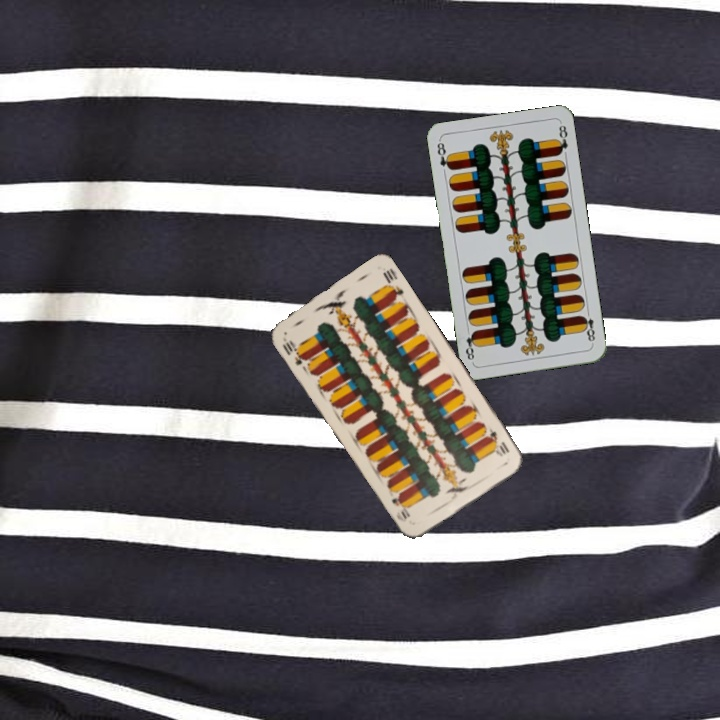E10: (483, 424, 512, 459), (278, 336, 309, 368)
E8: (578, 306, 598, 347), (433, 138, 454, 172)
